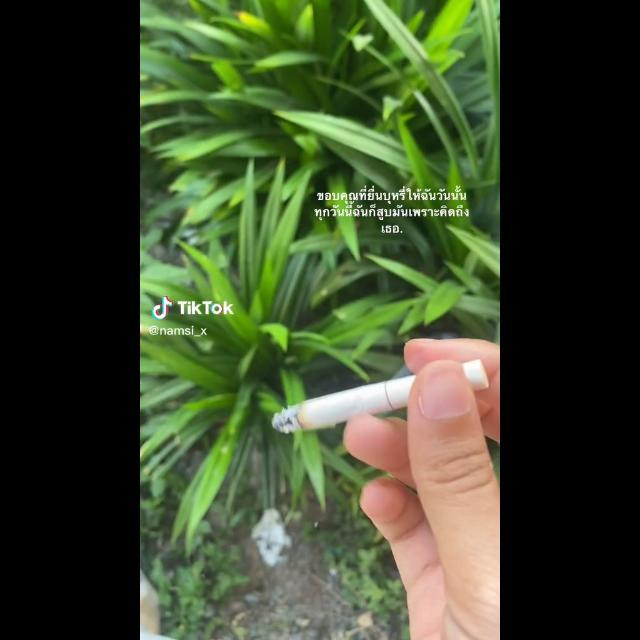rokok: (248, 368, 500, 442)
